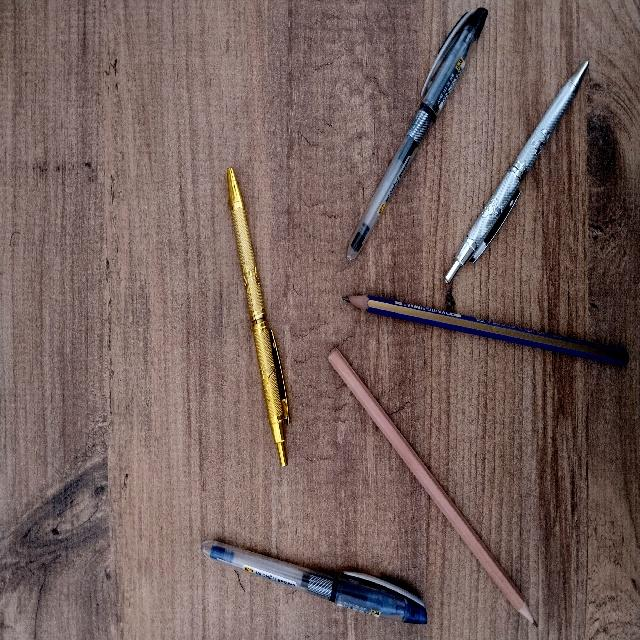pen: (347, 8, 487, 260), (201, 541, 426, 623)
pencil: (329, 348, 536, 625), (343, 295, 628, 365)
signature pen: (445, 61, 587, 282), (227, 168, 288, 465)
